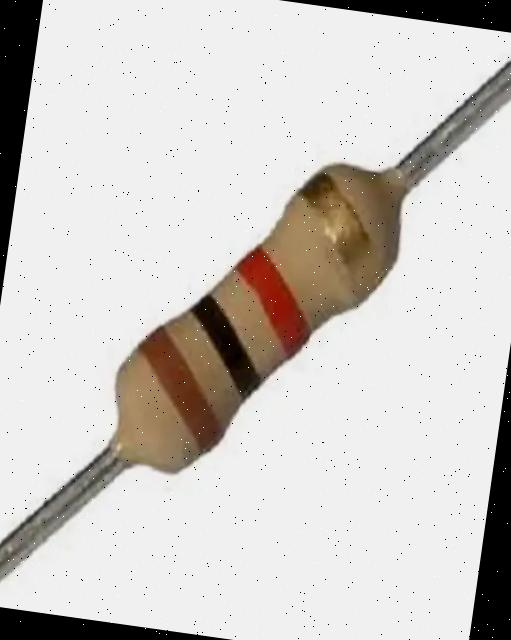black: (183, 287, 266, 399)
brown: (135, 323, 228, 461)
gold: (288, 155, 398, 305)
red: (229, 236, 322, 364)
resistor: (13, 61, 497, 547)
